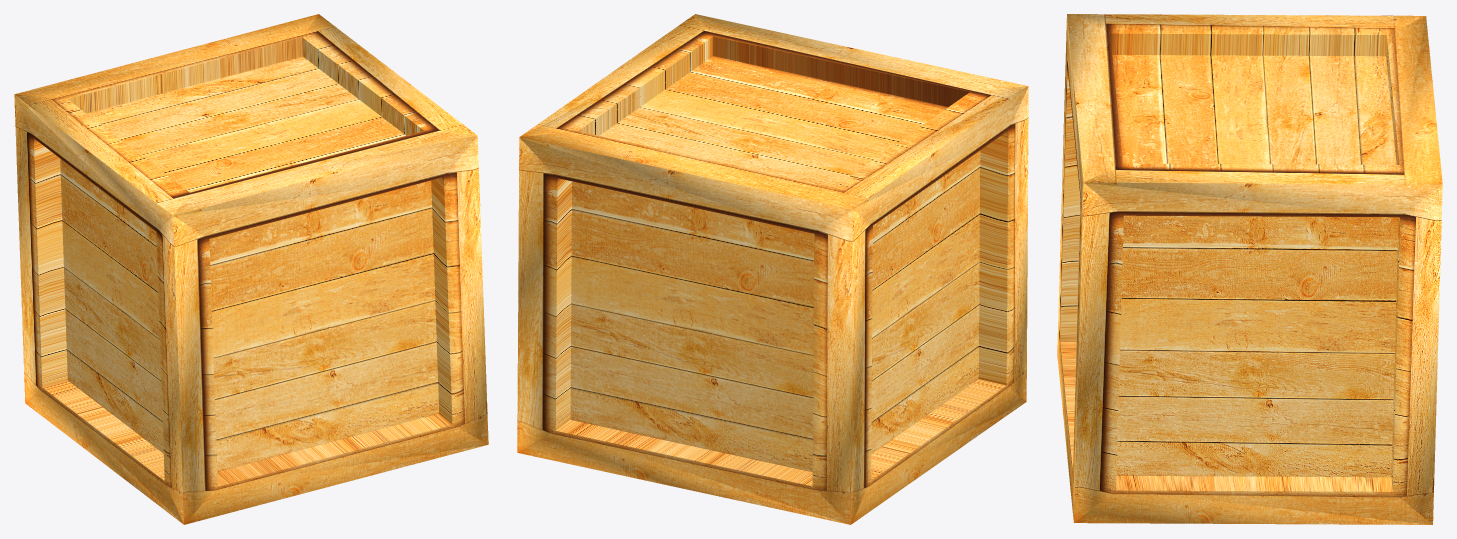
Rendered from wooden_box.glb.
The picture shows the model from 3 angles, left to right: view 1: azimuth 30°, elevation 25°; view 2: azimuth 150°, elevation 25°; view 3: azimuth 270°, elevation 25°; orthographic projection. The views are drawn at different scales.
Parts seen in each view (by area): view 1: wooden_box; view 2: wooden_box; view 3: wooden_box.
Boxes of the visible parts, x1,y1,x2,y2 form: wooden_box: (14,14,488,524); wooden_box: (517,14,1028,524); wooden_box: (1057,14,1442,524).
Bounding box in the file's own units: 0.6906 × 0.6314 × 0.6502.
Materials: 1 (1 with a texture image).
